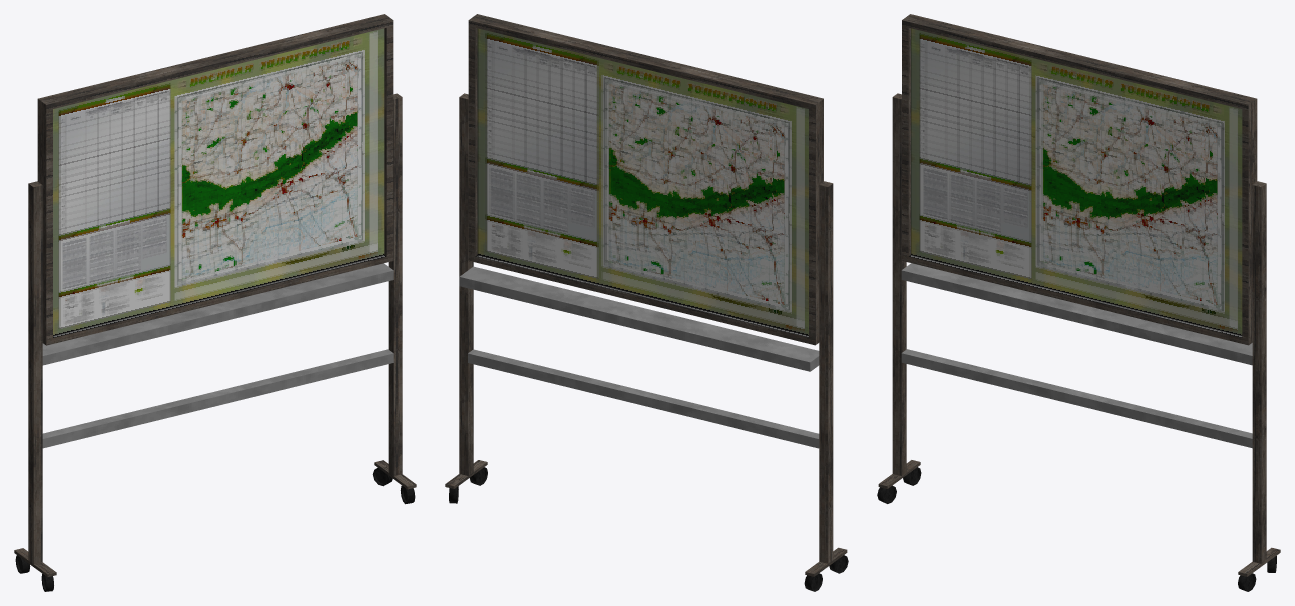
Rendered from board.glb.
3 views of the same model, side by side, from view 1: azimuth 30°, elevation 25°; view 2: azimuth 150°, elevation 25°; view 3: azimuth 330°, elevation 25° (orthographic).
Visible parts, largest first — view 1: board; view 2: board; view 3: board.
Part boxes in pixels (left/top/right/bottom): board: left=14, top=14, right=416, bottom=591; board: left=445, top=14, right=848, bottom=591; board: left=877, top=14, right=1280, bottom=591.
Bounding box in the file's own units: 2.07 × 2.53 × 0.3426.
1 material, 1 textured.
